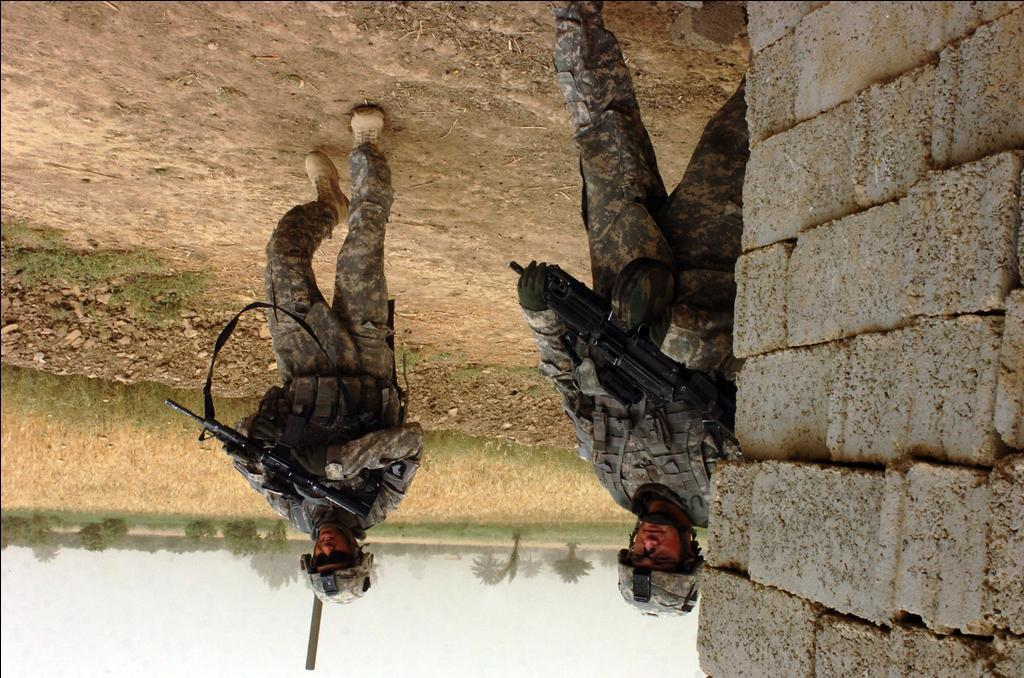gun: (509, 260, 736, 439), (164, 400, 363, 519)
